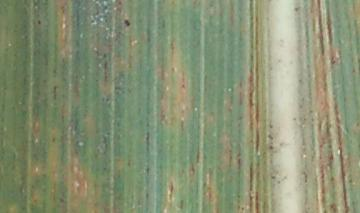tarspot: (102, 59, 110, 82), (300, 169, 309, 185), (52, 84, 59, 101), (329, 54, 338, 66), (292, 4, 302, 14), (265, 132, 275, 141), (122, 18, 131, 27), (169, 66, 178, 74), (268, 119, 274, 131), (145, 165, 151, 177), (350, 64, 356, 74), (179, 82, 187, 89), (89, 18, 97, 25), (36, 18, 42, 27), (357, 56, 360, 74), (328, 152, 334, 161), (267, 144, 274, 151), (102, 51, 108, 59), (270, 174, 276, 181), (103, 4, 108, 12), (51, 136, 57, 142)
